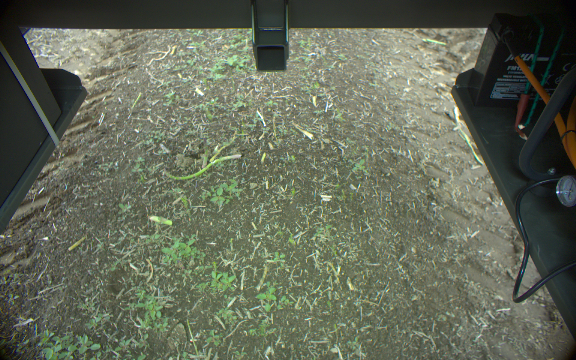aspa: (197, 135, 209, 171)
